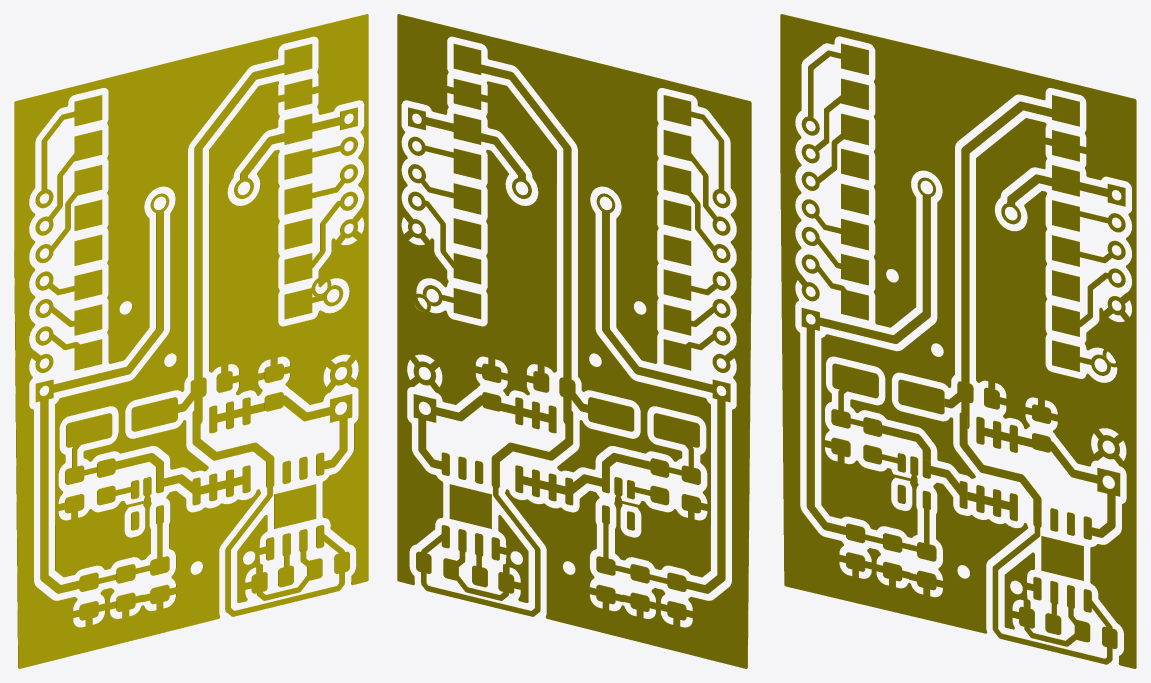
The model's file is Sensor_ctrl_pwr_pcb.obj.
3 views of the same model, side by side, from view 1: azimuth 30°, elevation 25°; view 2: azimuth 150°, elevation 25°; view 3: azimuth 330°, elevation 25° (orthographic).
Visible parts, largest first — view 1: Cuerpo14, Cuerpo24, Cuerpo1, Cuerpo15, Cuerpo1:1, Cuerpo18, Cuerpo79, Cuerpo98, Cuerpo2, Cuerpo23, Cuerpo48, Cuerpo32 (+15 smaller); view 2: Cuerpo14, Cuerpo24, Cuerpo1, Cuerpo15, Cuerpo18, Cuerpo1:1, Cuerpo79, Cuerpo2, Cuerpo23, Cuerpo98, Cuerpo48, Cuerpo103 (+18 smaller); view 3: Cuerpo14, Cuerpo24, Cuerpo1, Cuerpo15, Cuerpo1:1, Cuerpo18, Cuerpo98, Cuerpo79, Cuerpo2, Cuerpo23, Cuerpo48, Cuerpo101 (+15 smaller).
Boxes of the visible parts, x1=… form: Cuerpo14: x1=14, y1=14, x2=368, y2=668; Cuerpo24: x1=178, y1=64, x2=344, y2=616; Cuerpo1: x1=40, y1=193, x2=169, y2=593; Cuerpo15: x1=237, y1=515, x2=308, y2=602; Cuerpo1:1: x1=274, y1=484, x2=316, y2=528; Cuerpo18: x1=72, y1=445, x2=242, y2=494; Cuerpo79: x1=66, y1=413, x2=112, y2=447; Cuerpo98: x1=131, y1=397, x2=177, y2=431; Cuerpo2: x1=234, y1=117, x2=340, y2=198; Cuerpo23: x1=217, y1=395, x2=329, y2=422; Cuerpo48: x1=284, y1=183, x2=312, y2=214; Cuerpo32: x1=284, y1=253, x2=312, y2=284; Cuerpo14: x1=397, y1=14, x2=751, y2=668; Cuerpo24: x1=421, y1=55, x2=614, y2=616; Cuerpo1: x1=596, y1=193, x2=725, y2=593; Cuerpo15: x1=448, y1=515, x2=528, y2=602; Cuerpo18: x1=515, y1=428, x2=693, y2=495; Cuerpo1:1: x1=449, y1=484, x2=491, y2=528; Cuerpo79: x1=653, y1=413, x2=699, y2=447; Cuerpo2: x1=421, y1=117, x2=531, y2=198; Cuerpo23: x1=430, y1=395, x2=556, y2=423; Cuerpo98: x1=588, y1=397, x2=634, y2=431; Cuerpo48: x1=453, y1=183, x2=481, y2=214; Cuerpo103: x1=663, y1=234, x2=691, y2=265; Cuerpo14: x1=780, y1=14, x2=1136, y2=668; Cuerpo24: x1=944, y1=101, x2=1112, y2=664; Cuerpo1: x1=806, y1=177, x2=935, y2=551; Cuerpo15: x1=1004, y1=552, x2=1076, y2=646; Cuerpo1:1: x1=1041, y1=536, x2=1083, y2=580; Cuerpo18: x1=838, y1=389, x2=1009, y2=510; Cuerpo98: x1=898, y1=379, x2=944, y2=414; Cuerpo79: x1=832, y1=363, x2=878, y2=398; Cuerpo2: x1=1001, y1=174, x2=1107, y2=224; Cuerpo23: x1=984, y1=427, x2=1097, y2=483; Cuerpo48: x1=1052, y1=235, x2=1079, y2=266; Cuerpo101: x1=1052, y1=270, x2=1079, y2=301.
Bounding box in the file's own units: 2.7 × 4.15 × 0.1585.
